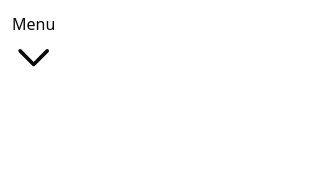
Test: HeaderNavItem › with dropdown › shows dropdown content when open
The width and height of the screenshot is (332, 172).
Click the button "Menu" at (34, 46), box [12,12,55,79]
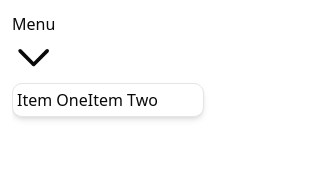
expect the menu is shown: met, box [12,83,204,117]
expect the text "Item One" is shown: met, box [17,89,88,111]
expect the text "Item Two" is shown: met, box [88,89,158,111]
